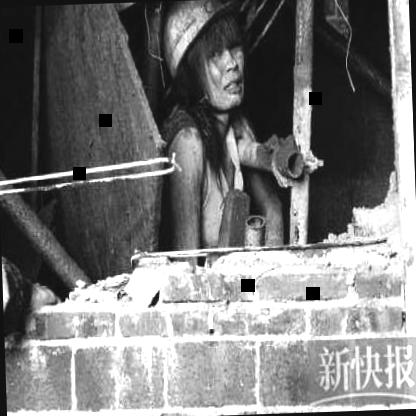helmet: (146, 0, 254, 125)
